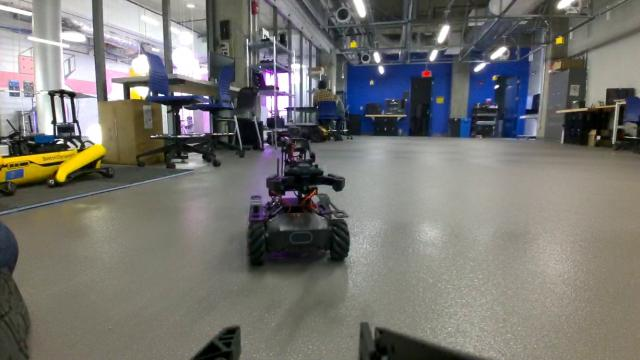robot: (240, 134, 362, 272)
